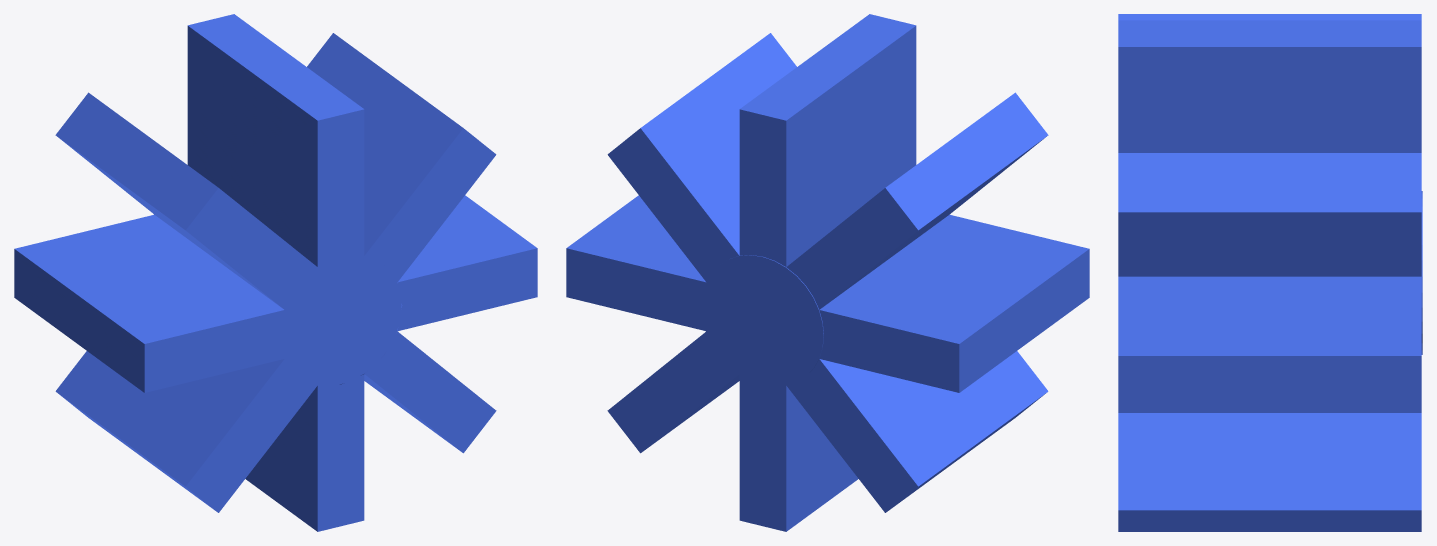
Rendered from icon.glb.
3 renders of one model, left to right at view 1: azimuth 30°, elevation 25°; view 2: azimuth 150°, elevation 25°; view 3: azimuth 270°, elevation 25°, orthographic. The views are drawn at different scales.
Visible parts, largest first — view 1: Circle.005; view 2: Circle.005; view 3: Circle.005.
Boxes of the visible parts, <box> form: Circle.005: <box>14,14,537,531</box>; Circle.005: <box>566,14,1089,531</box>; Circle.005: <box>1118,14,1422,531</box>.
Bounding box in the file's own units: 2.09 × 2.09 × 1.2.
